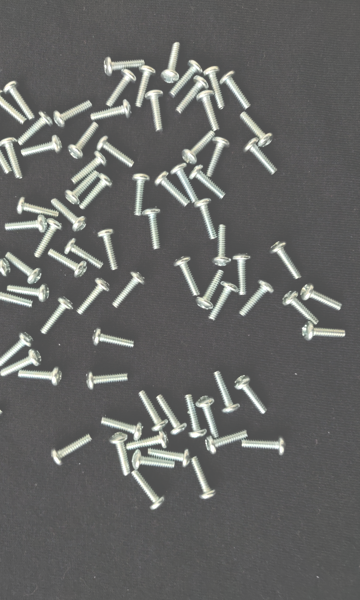shortscrew: (50, 433, 94, 466), (132, 469, 166, 511), (170, 59, 204, 99), (234, 375, 268, 415), (41, 296, 74, 337), (244, 138, 279, 176), (77, 277, 111, 316), (71, 151, 110, 185), (240, 279, 274, 318), (4, 80, 36, 121), (155, 171, 191, 207), (51, 198, 88, 233), (177, 76, 210, 115), (269, 240, 301, 280), (65, 238, 106, 269), (157, 395, 187, 437), (47, 248, 89, 278), (283, 291, 319, 326), (80, 173, 114, 210), (113, 270, 146, 308), (5, 252, 43, 285), (221, 70, 252, 110), (300, 283, 344, 311), (0, 331, 35, 366), (19, 110, 54, 145), (191, 165, 226, 200), (64, 171, 100, 205), (240, 111, 274, 147), (0, 349, 43, 377), (209, 281, 239, 321), (192, 455, 218, 501), (214, 371, 241, 414), (139, 392, 168, 432), (196, 270, 225, 310), (182, 131, 216, 165), (107, 69, 137, 107), (35, 218, 63, 258), (174, 256, 201, 297), (54, 100, 93, 128), (68, 123, 98, 159), (206, 429, 249, 454), (196, 395, 221, 438), (194, 199, 219, 241), (170, 165, 198, 202), (101, 417, 144, 441), (185, 396, 208, 439), (97, 228, 120, 271), (21, 134, 63, 157), (195, 91, 219, 131), (110, 432, 131, 477), (0, 90, 27, 125), (203, 66, 224, 111), (91, 99, 132, 122), (207, 137, 230, 178), (0, 137, 22, 179), (135, 65, 156, 108), (242, 436, 287, 456), (161, 42, 182, 84), (19, 367, 63, 387), (16, 198, 59, 218), (147, 447, 192, 466), (133, 450, 175, 470), (93, 329, 135, 349), (126, 431, 170, 450), (233, 252, 252, 296), (303, 322, 347, 341), (0, 285, 34, 308), (87, 371, 128, 390), (104, 57, 145, 76), (213, 225, 232, 266), (8, 284, 51, 302), (5, 215, 48, 233), (133, 173, 151, 216), (143, 210, 162, 250), (146, 90, 164, 132), (0, 134, 11, 174), (0, 258, 12, 278), (0, 408, 3, 444)
